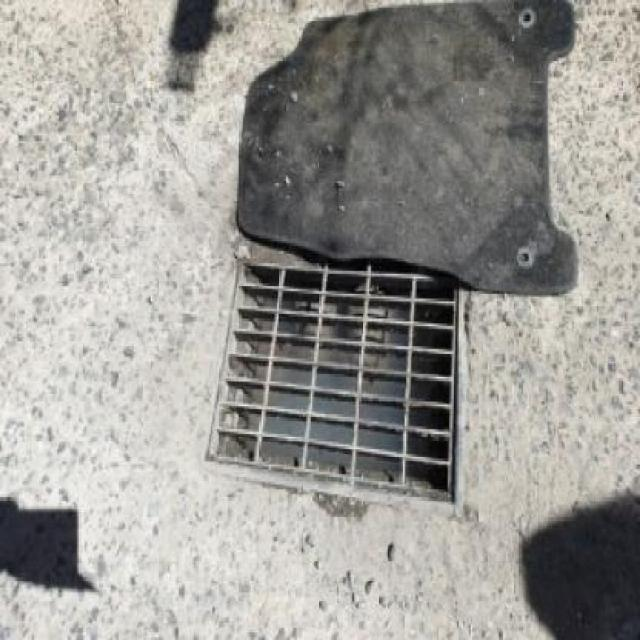Drain Hole: (182, 269, 490, 478)
